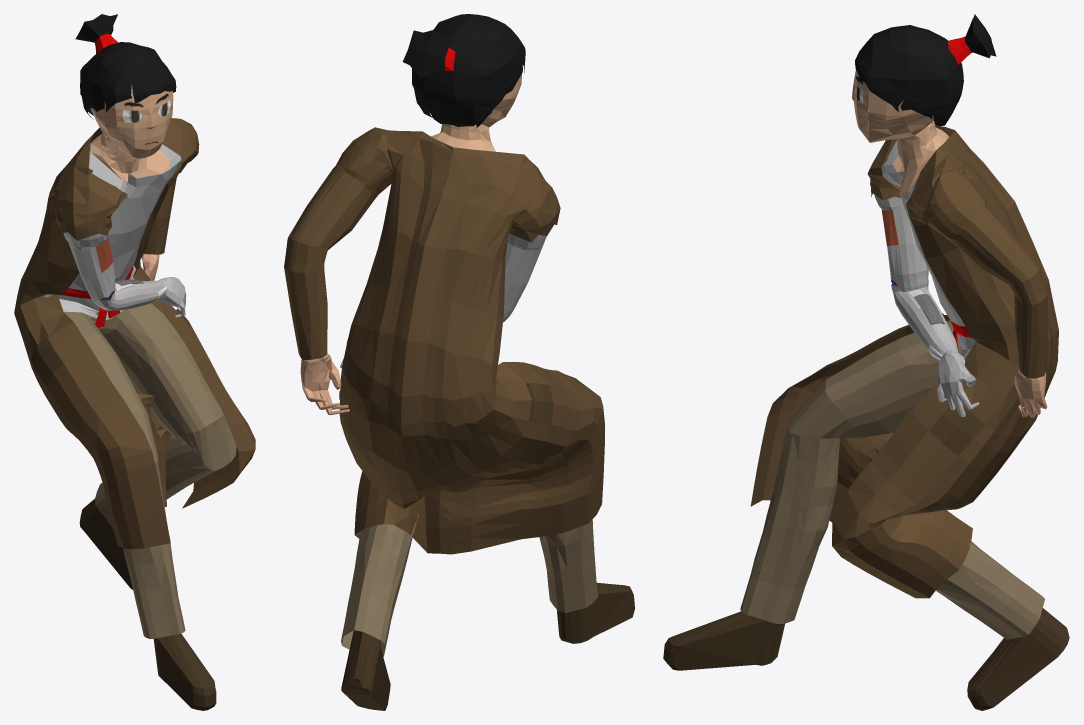
Rendered from One_DB_000007.obj.
3 views of the same model, side by side, from view 1: azimuth 30°, elevation 25°; view 2: azimuth 150°, elevation 25°; view 3: azimuth 270°, elevation 25° (orthographic). The views are drawn at different scales.
Parts seen in each view (by area): view 1: Hair_Cube.004; view 2: Hair_Cube.004; view 3: Hair_Cube.004.
Part boxes in pixels (<box>): Hair_Cube.004: <box>14,14,255,710</box>; Hair_Cube.004: <box>284,14,634,710</box>; Hair_Cube.004: <box>663,14,1069,710</box>.
Bounding box in the file's own units: 1.09 × 3.41 × 1.89.
